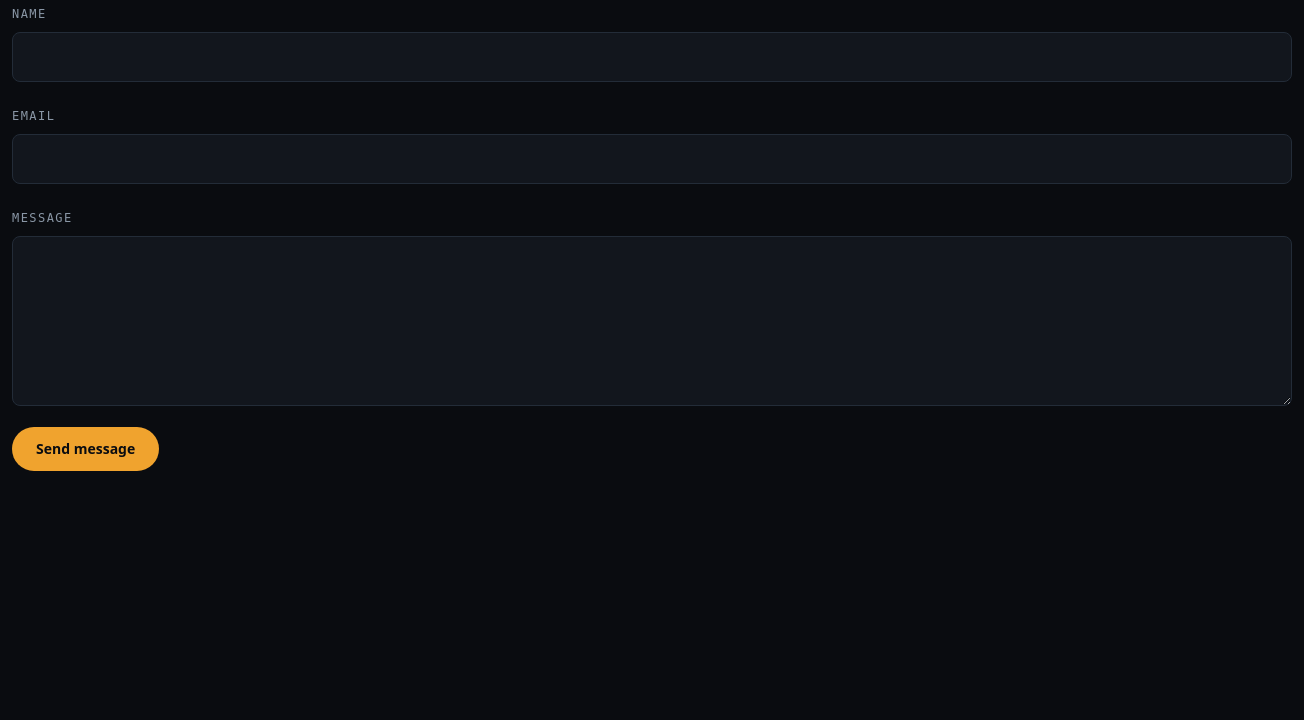
it: ContactForm › refuses to submit an invalid form and sends nothing
The width and height of the screenshot is (1304, 720).
Click the button "Send message".
click(86, 449)  # box [12, 427, 159, 471]
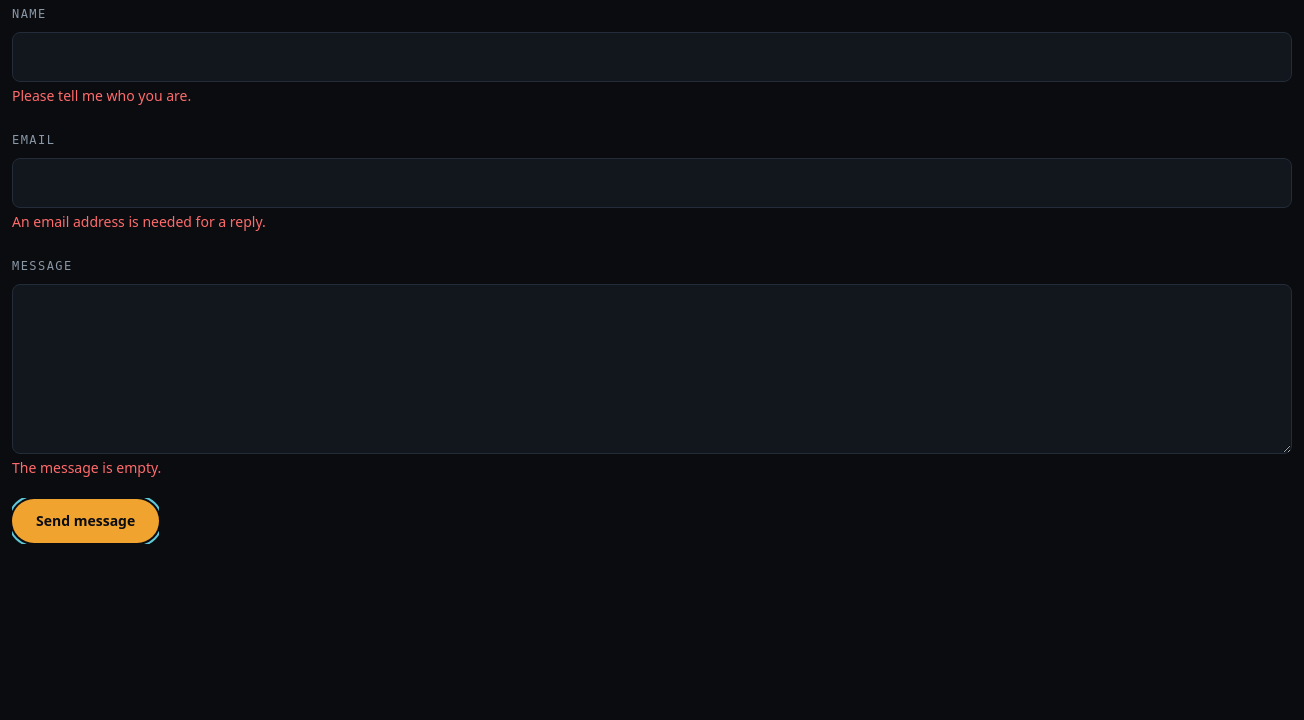
Result: the text "Please tell me who you are." is shown at [12, 86, 191, 105]
